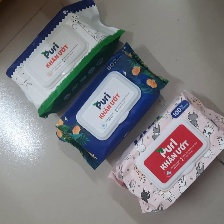Puri Trang: (4, 1, 125, 120)
Puri Xanh: (55, 42, 170, 172)
Puri hong: (107, 89, 224, 217)
